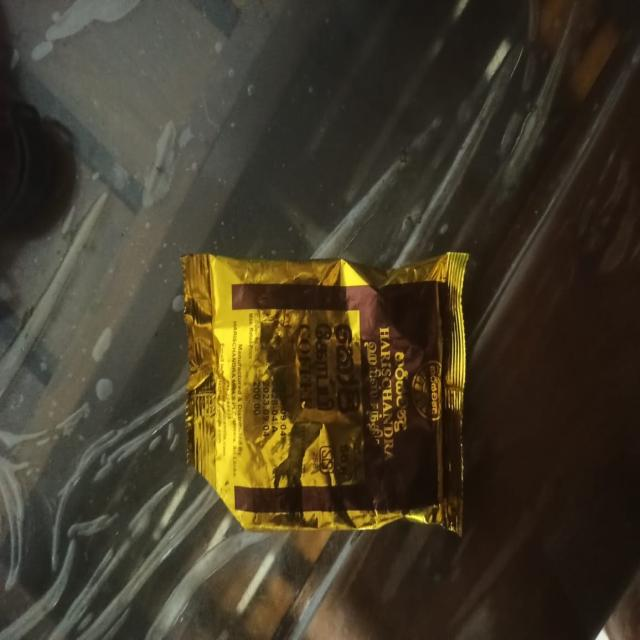Harischandra Coffee: (184, 206, 517, 588)
